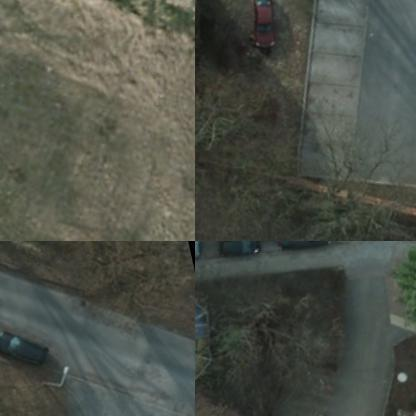car: (237, 0, 293, 57), (0, 314, 54, 367), (219, 241, 268, 258)
